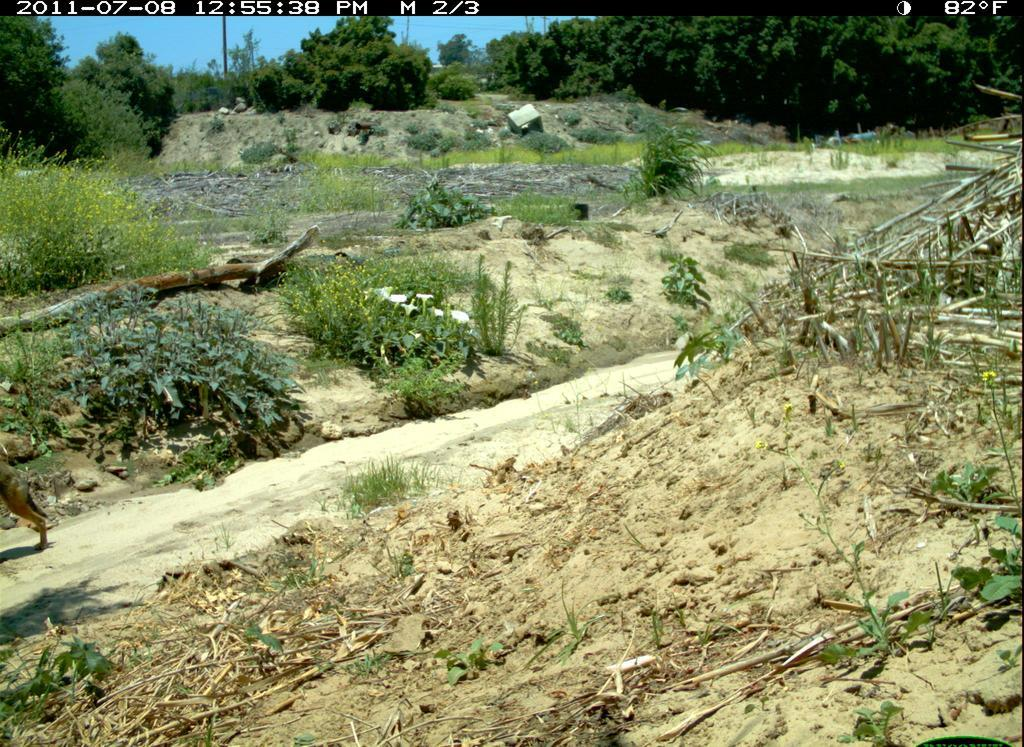coyote: (2, 441, 60, 561)
